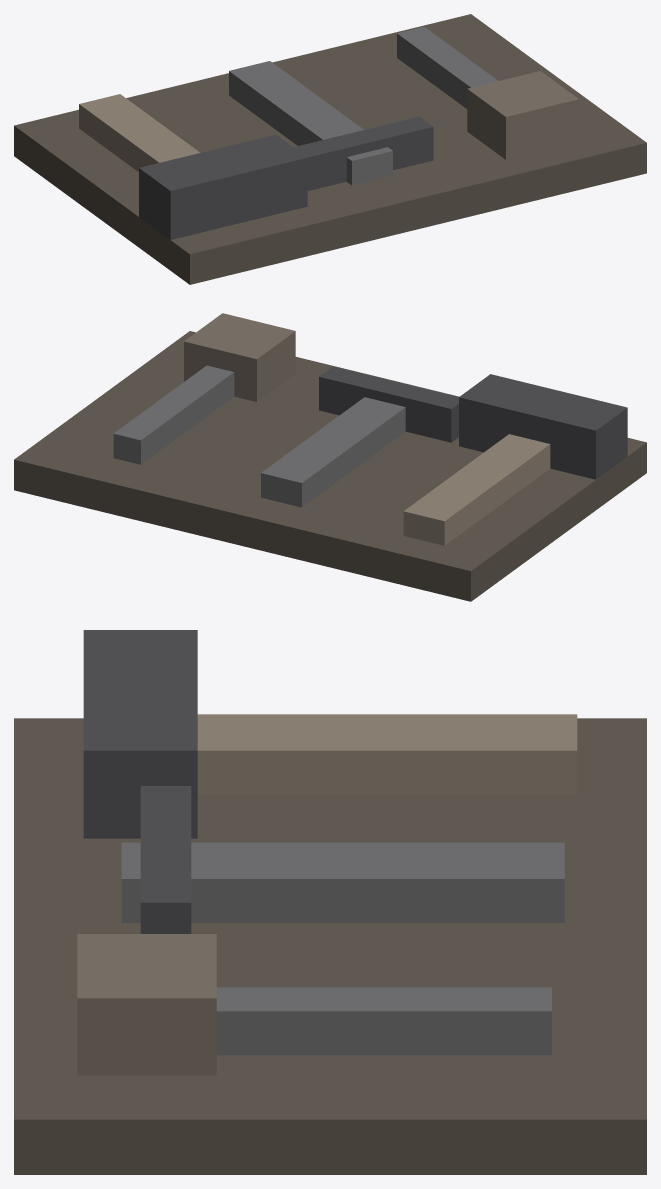
File: tools.glb
The picture shows the model from 3 angles, top to bottom: view 1: azimuth 30°, elevation 25°; view 2: azimuth 150°, elevation 25°; view 3: azimuth 270°, elevation 25°; orthographic projection. The views are drawn at different scales.
Visible parts, largest first — view 1: tools; view 2: tools; view 3: tools.
Boxes of the visible parts, x1=… form: tools: x1=14, y1=14, x2=646, y2=284; tools: x1=14, y1=313, x2=646, y2=601; tools: x1=14, y1=630, x2=646, y2=1174.
Bounding box in the file's own units: 0.6 × 0.1 × 0.4.
